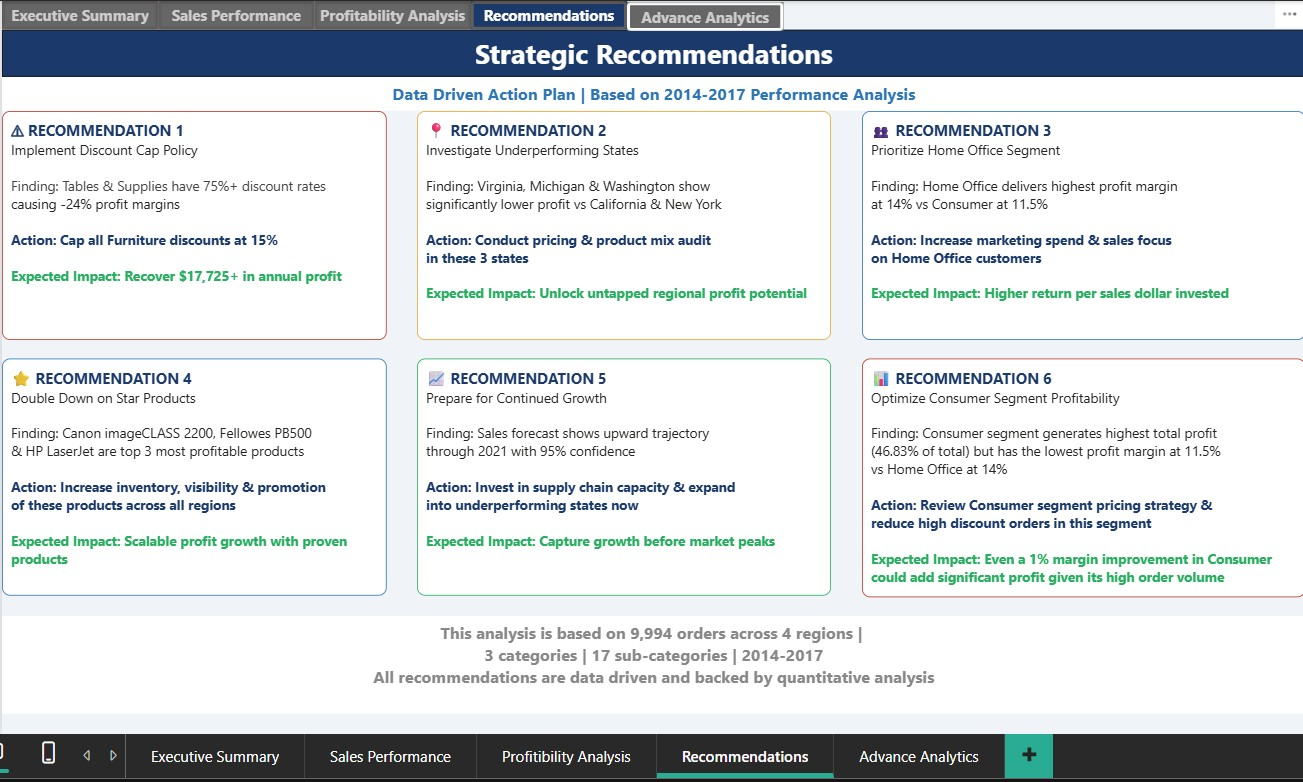

This screenshot's page, from the dashboard's own definition file:
{"tool":"powerbi","page":{"name":"Recommendations","canvas":[1280,720],"ordinal":3},"visuals":[{"type":"textbox","box":[0,28.2,1279.8,46.6],"z":0},{"type":"textbox","box":[0,74.8,1279.8,33.1],"z":1000},{"type":"textbox","title":"Discount Cap Policy","box":[0,108,377.9,224.5],"z":2000},{"type":"textbox","box":[407.4,108,406.1,224.5],"z":3000},{"type":"textbox","box":[844.2,108,435.6,224.5],"z":4000},{"type":"textbox","box":[0,350.9,377.9,233.1],"z":5000},{"type":"textbox","box":[407.4,350.9,406.1,233.1],"z":6000},{"type":"textbox","box":[0,603.7,1279.8,95.7],"z":7000},{"type":"textbox","box":[844.2,350.9,435.6,234.4],"z":8000},{"type":"actionButton","title":"Executive Summary","box":[0,0,153.4,28.2],"z":9000},{"type":"actionButton","title":"Executive Summary","box":[153.4,0,153.4,28.2],"z":10000},{"type":"actionButton","title":"Executive Summary","box":[306.8,0,153.4,28.2],"z":11000},{"type":"actionButton","title":"Executive Summary","box":[460.1,0,153.4,28.2],"z":12000},{"type":"actionButton","title":"Executive Summary","box":[613.5,1.2,153.4,28.2],"z":13000}]}

Visuals, with their boxes on the page's 1280x720 design canvas (x1, y1, x2, y2). These are canvas units, not pixel positions in the 1303x782 screenshot, which may show the page scaled, cropped or inside an application window:
textbox: pyautogui.locateOnScreen(0, 28, 1280, 75)
textbox: pyautogui.locateOnScreen(0, 75, 1280, 108)
"Discount Cap Policy" textbox: pyautogui.locateOnScreen(0, 108, 378, 332)
textbox: pyautogui.locateOnScreen(407, 108, 814, 332)
textbox: pyautogui.locateOnScreen(844, 108, 1280, 332)
textbox: pyautogui.locateOnScreen(0, 351, 378, 584)
textbox: pyautogui.locateOnScreen(407, 351, 814, 584)
textbox: pyautogui.locateOnScreen(0, 604, 1280, 699)
textbox: pyautogui.locateOnScreen(844, 351, 1280, 585)
"Executive Summary" actionButton: pyautogui.locateOnScreen(0, 0, 153, 28)
"Executive Summary" actionButton: pyautogui.locateOnScreen(153, 0, 307, 28)
"Executive Summary" actionButton: pyautogui.locateOnScreen(307, 0, 460, 28)
"Executive Summary" actionButton: pyautogui.locateOnScreen(460, 0, 614, 28)
"Executive Summary" actionButton: pyautogui.locateOnScreen(614, 1, 767, 29)
